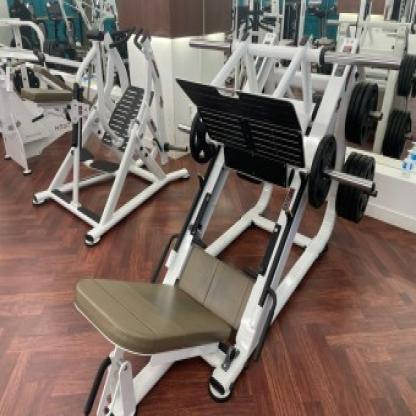leg press: (52, 23, 398, 416)
